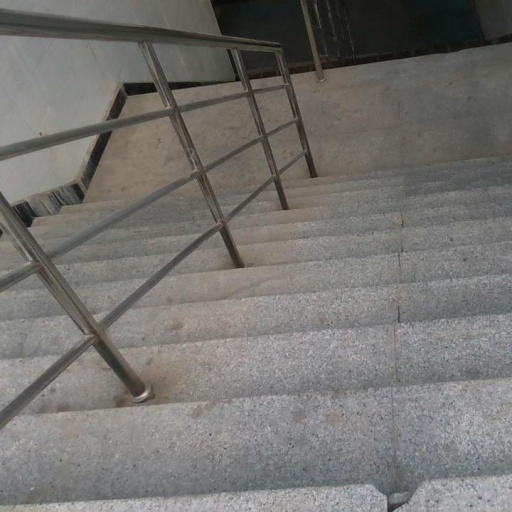Stairs: (24, 161, 512, 512)
